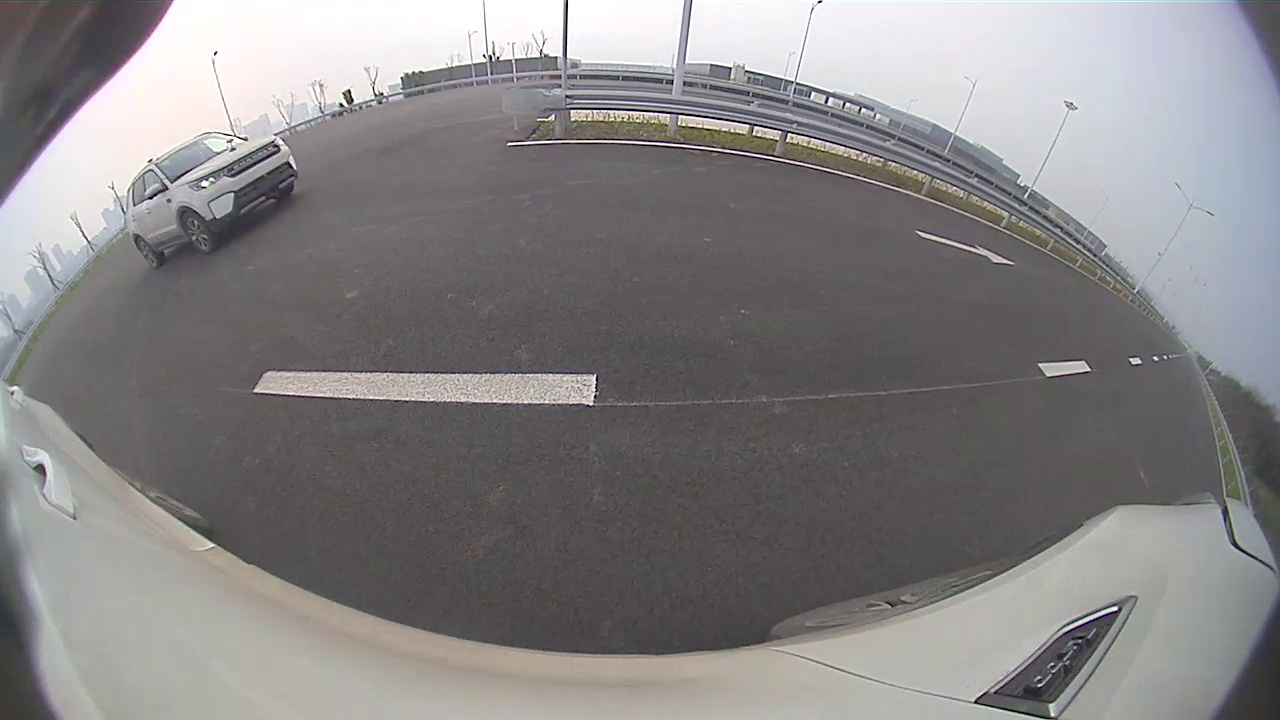car: (126, 131, 298, 269)
front: (180, 212, 217, 254)
rear: (134, 238, 163, 269)
